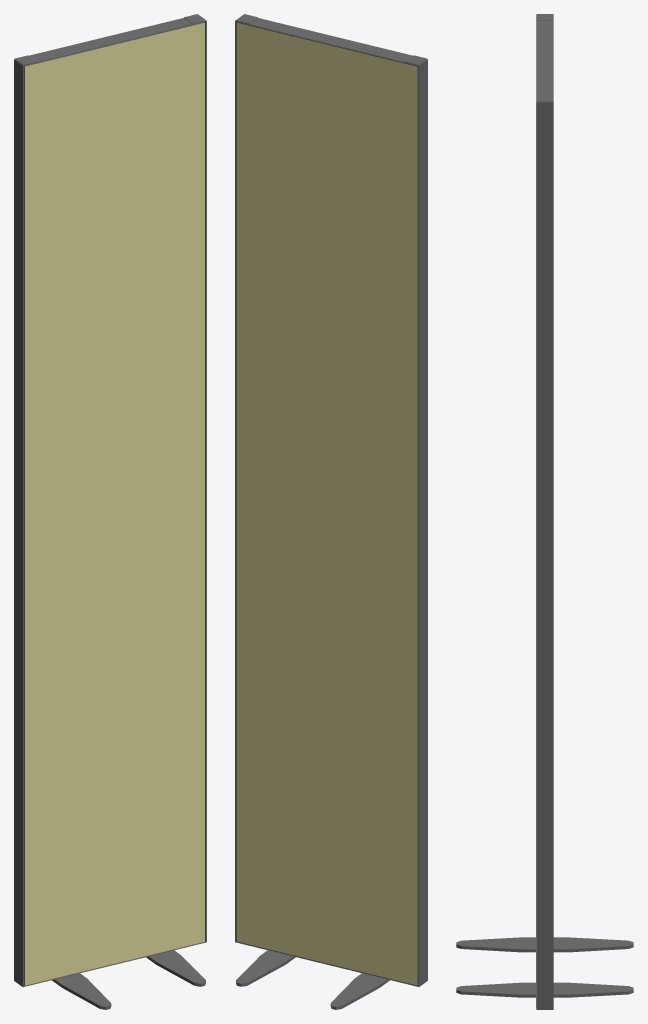
File: Standard 19.glb
The picture shows the model from 3 angles, left to right: view 1: azimuth 30°, elevation 25°; view 2: azimuth 150°, elevation 25°; view 3: azimuth 270°, elevation 25°; orthographic projection.
Parts seen in each view (by area): view 1: toggle_back_panel.001, Standard 19; view 2: Standard 19; view 3: Standard 19, toggle_back_panel.001.
Boxes of the visible parts, bbox=[...] form: toggle_back_panel.001: bbox=[25, 23, 204, 985]; Standard 19: bbox=[14, 14, 206, 1009]; Standard 19: bbox=[235, 14, 427, 1009]; Standard 19: bbox=[456, 14, 633, 1009]; toggle_back_panel.001: bbox=[536, 17, 536, 1007].
Bounding box in the file's own units: 0.494 × 2.37 × 0.4191.
